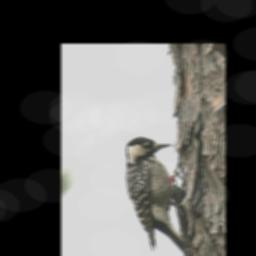Woodpecker: (125, 137, 189, 254)
